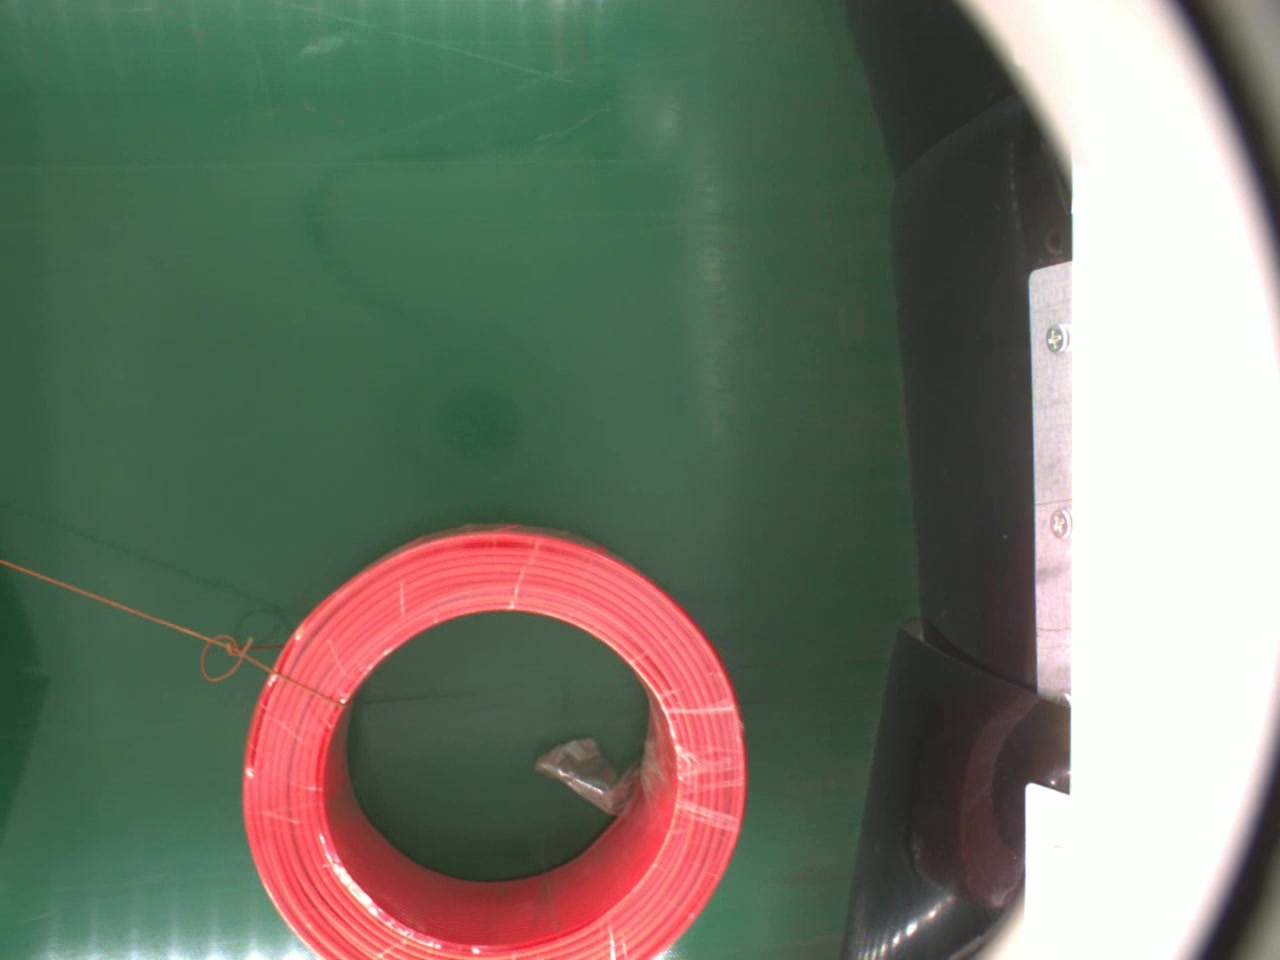red: (235, 518, 750, 960)
